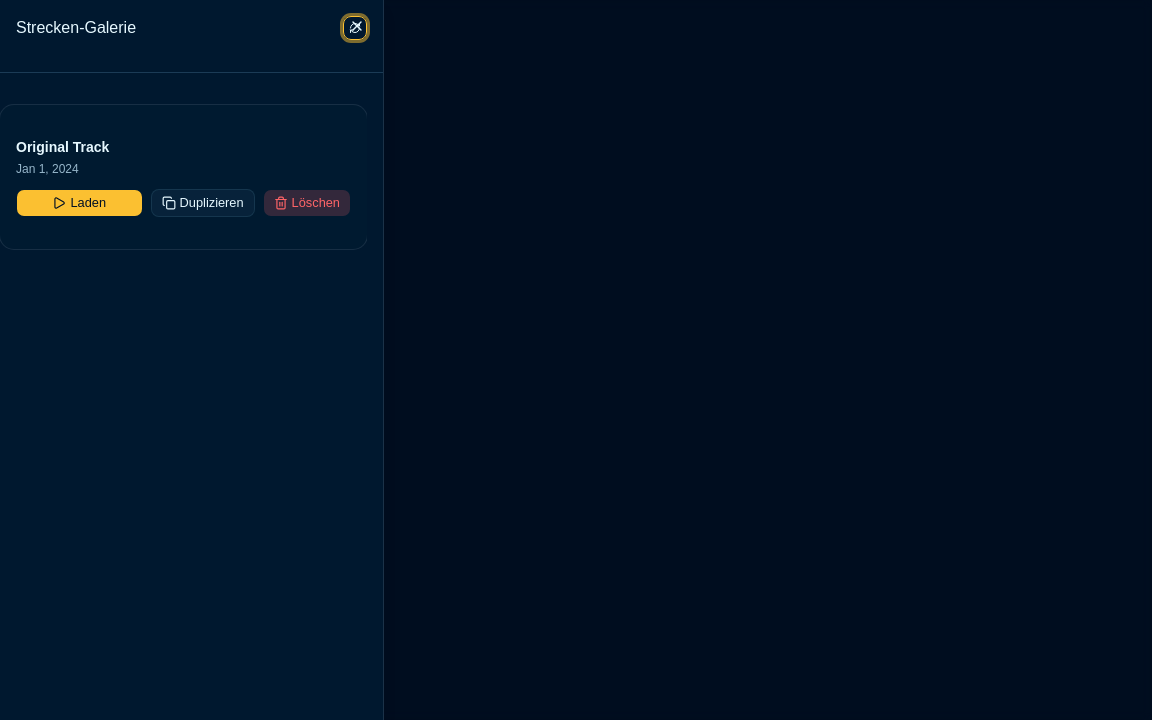
Test: TrackGallery › duplicates a saved track with a new name and loads the copy
Click the button "Duplizieren". click: (203, 203)
box: [151,189,255,217]
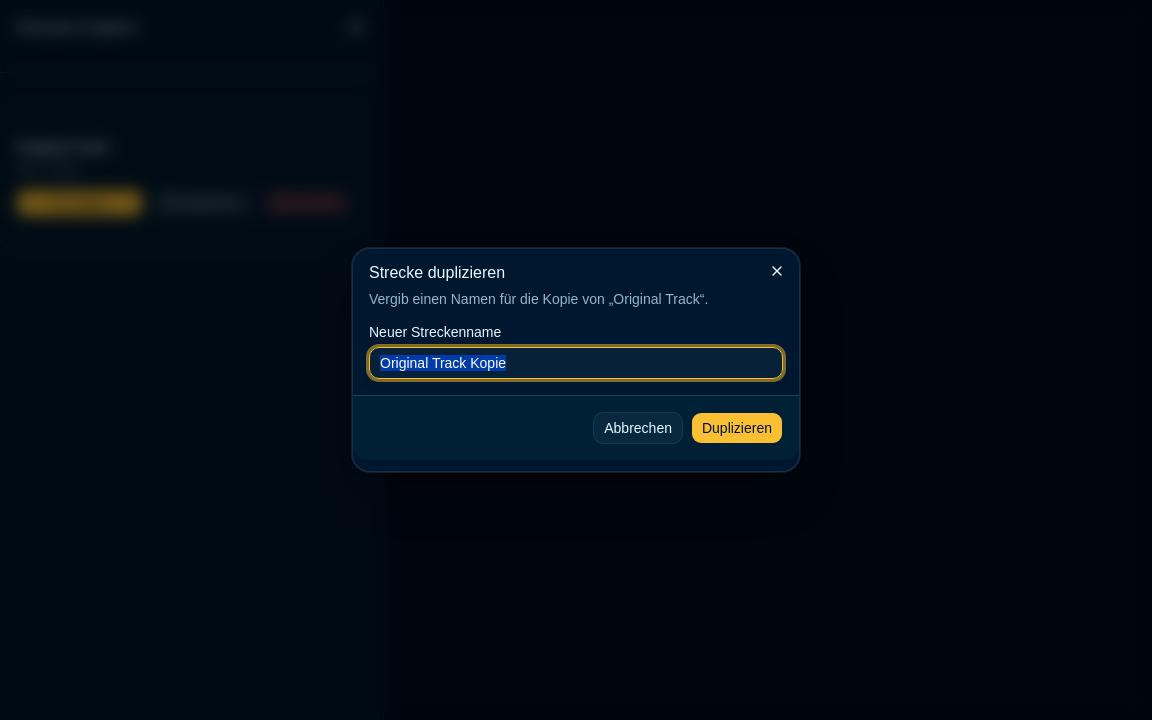
Now the heading "Strecke duplizieren" is shown, box [369,264,505,281]
Now the field showing "Original Track Kopie" is shown
Replace the text in the field labelled "Neuer Streckenname" with "Version 2". click: (576, 363)
box: [369,347,783,379]
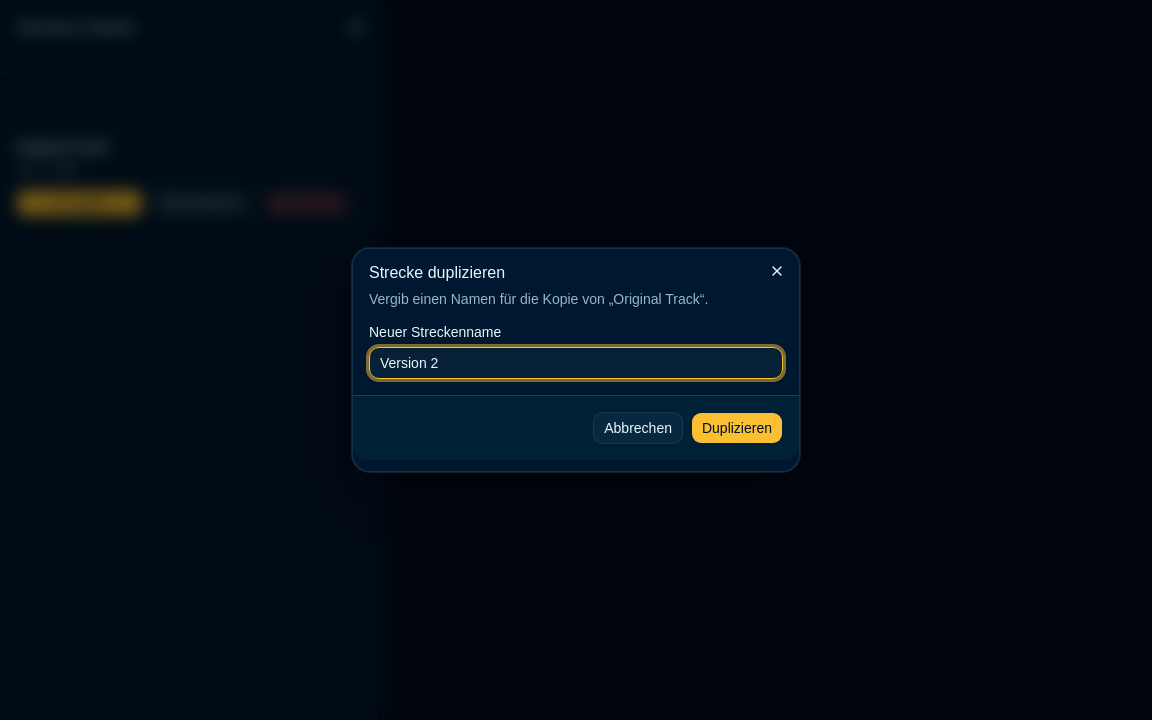
Click the button "Duplizieren". click: (737, 428)
box: [691,412,783,444]
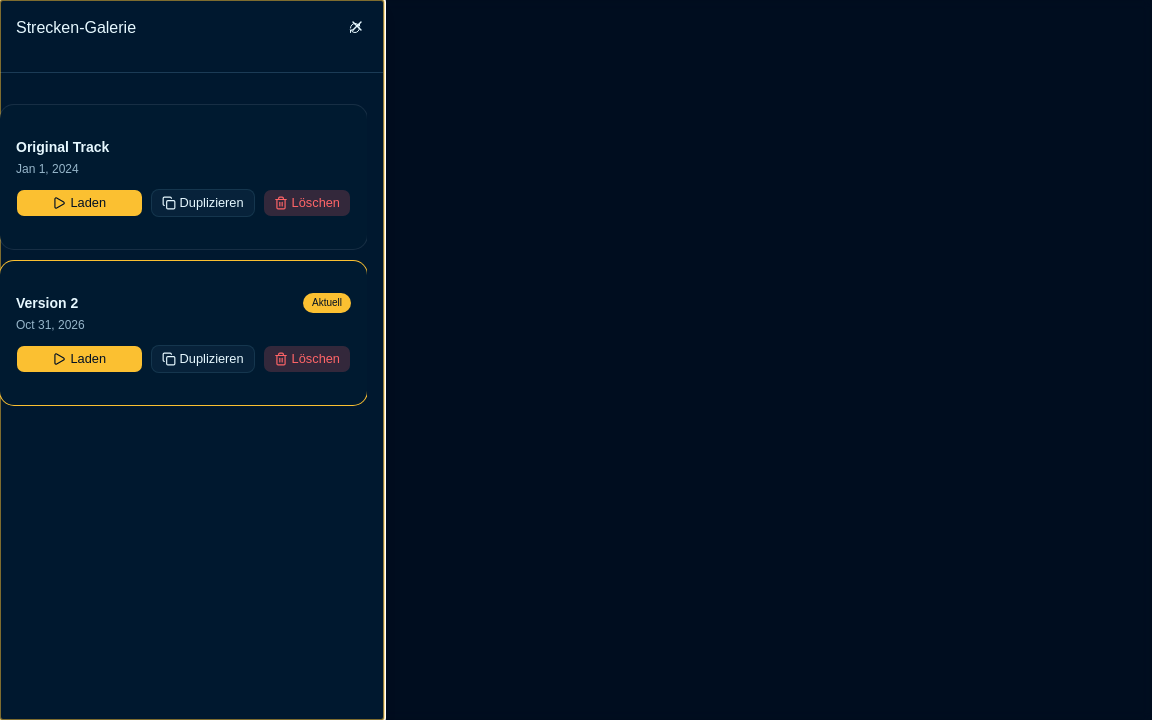
Expected: the text "Original Track" is shown, [16,137,109,157]
Now the text "Version 2" is shown, box [16,293,85,313]
